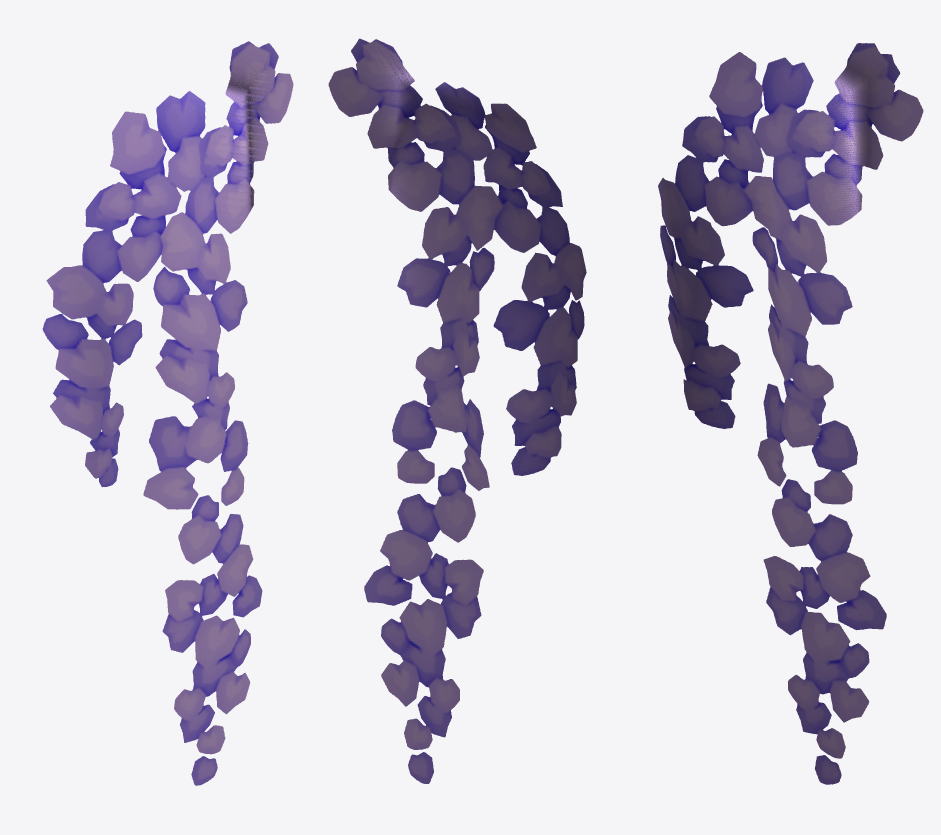
File: SM_Env_Flowers_Line_01.fbx
The picture shows the model from 3 angles, left to right: view 1: azimuth 30°, elevation 25°; view 2: azimuth 150°, elevation 25°; view 3: azimuth 330°, elevation 25°; orthographic projection. The views are drawn at different scales.
Parts seen in each view (by area): view 1: SM_Env_Flowers_Line_01; view 2: SM_Env_Flowers_Line_01; view 3: SM_Env_Flowers_Line_01.
Part boxes in pixels (left/top/right/bottom): SM_Env_Flowers_Line_01: left=42, top=41, right=293, bottom=785; SM_Env_Flowers_Line_01: left=328, top=38, right=586, bottom=783; SM_Env_Flowers_Line_01: left=658, top=43, right=923, bottom=784.
Bounding box in the file's own units: 50.98 × 132 × 6.76.
